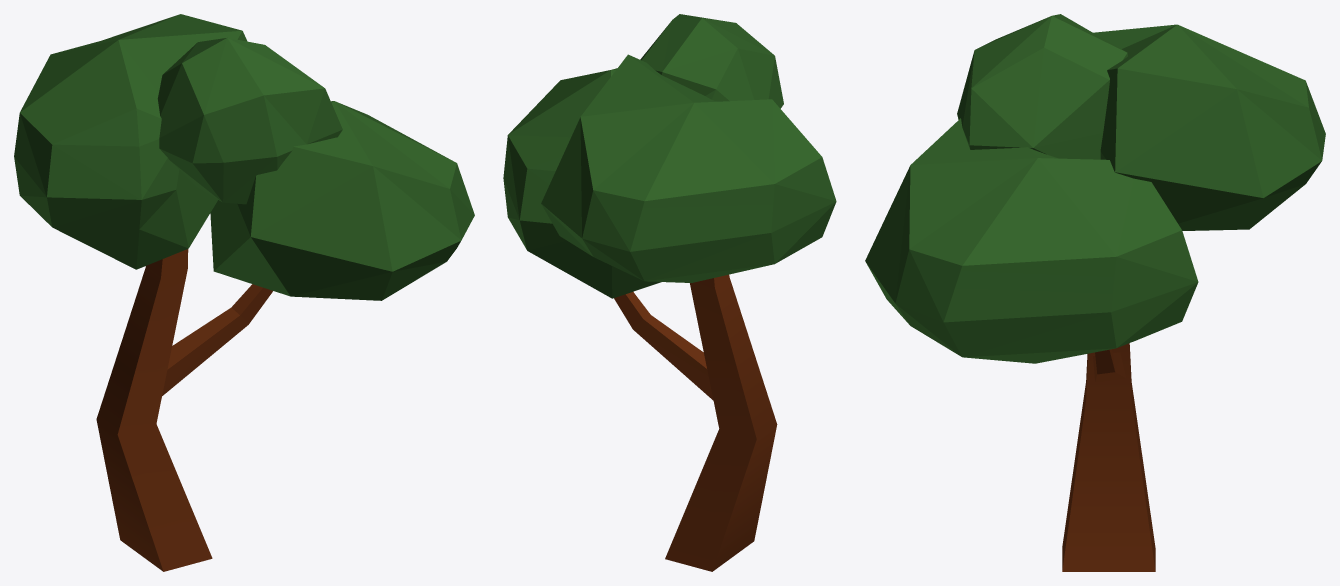
File: bush_01.glb
3 renders of one model, left to right at view 1: azimuth 30°, elevation 25°; view 2: azimuth 150°, elevation 25°; view 3: azimuth 270°, elevation 25°, orthographic. The views are drawn at different scales.
Parts seen in each view (by area): view 1: Bush_temp_climate_001; view 2: Bush_temp_climate_001; view 3: Bush_temp_climate_001.
Part boxes in pixels (x1,y1,x2,y2): Bush_temp_climate_001: (14, 14, 474, 571); Bush_temp_climate_001: (503, 14, 836, 571); Bush_temp_climate_001: (865, 14, 1325, 571).
Size of the model in its own units: 1.15 by 1.62 by 1.2.
Materials: 1 (1 with a texture image).
